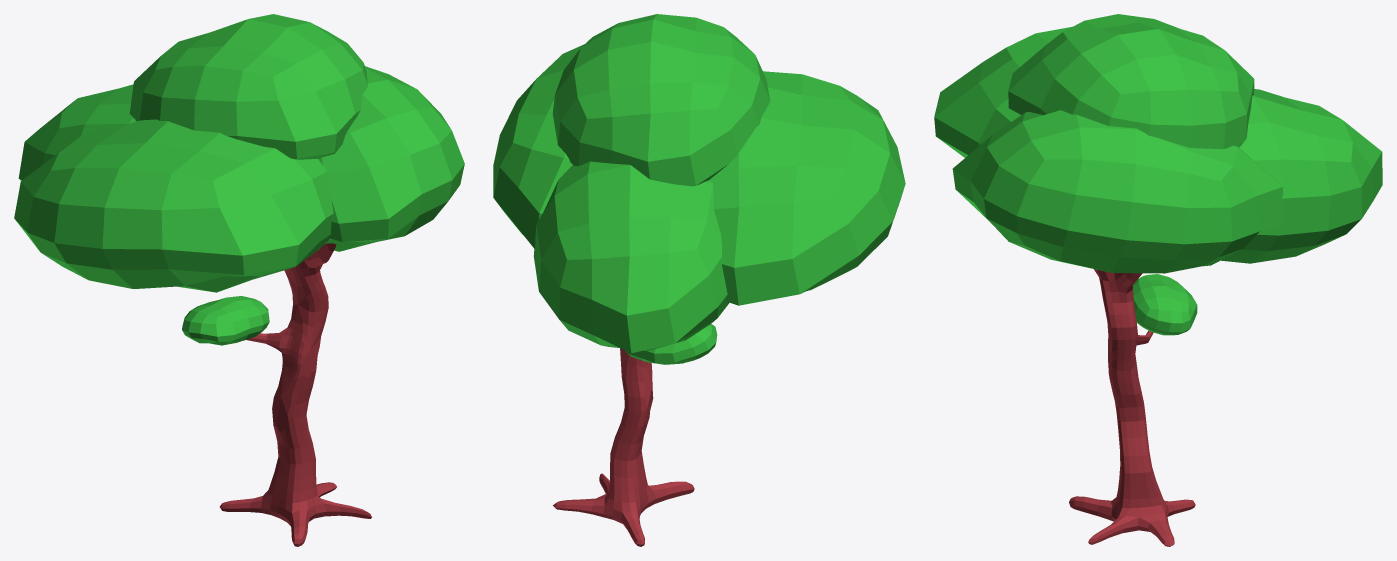
The model's file is Tree2.fbx.
3 views of the same model, side by side, from view 1: azimuth 30°, elevation 25°; view 2: azimuth 150°, elevation 25°; view 3: azimuth 270°, elevation 25° (orthographic). The views are drawn at different scales.
Visible parts, largest first — view 1: tree(leavespart).001; view 2: tree(leavespart).001; view 3: tree(leavespart).001.
Part boxes in pixels (x1,y1,x2,y2): tree(leavespart).001: [14, 14, 464, 546]; tree(leavespart).001: [493, 14, 905, 546]; tree(leavespart).001: [934, 14, 1382, 546].
Size of the model in its own units: 1778 by 2258 by 1893.
